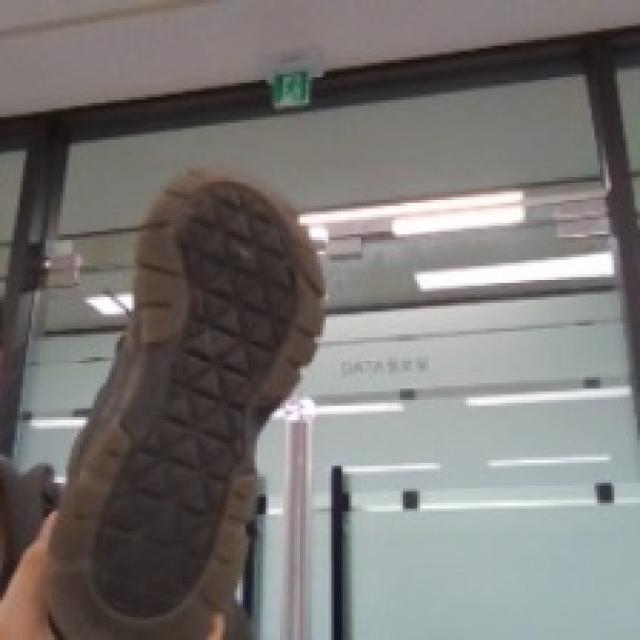shoe: (38, 154, 336, 640)
